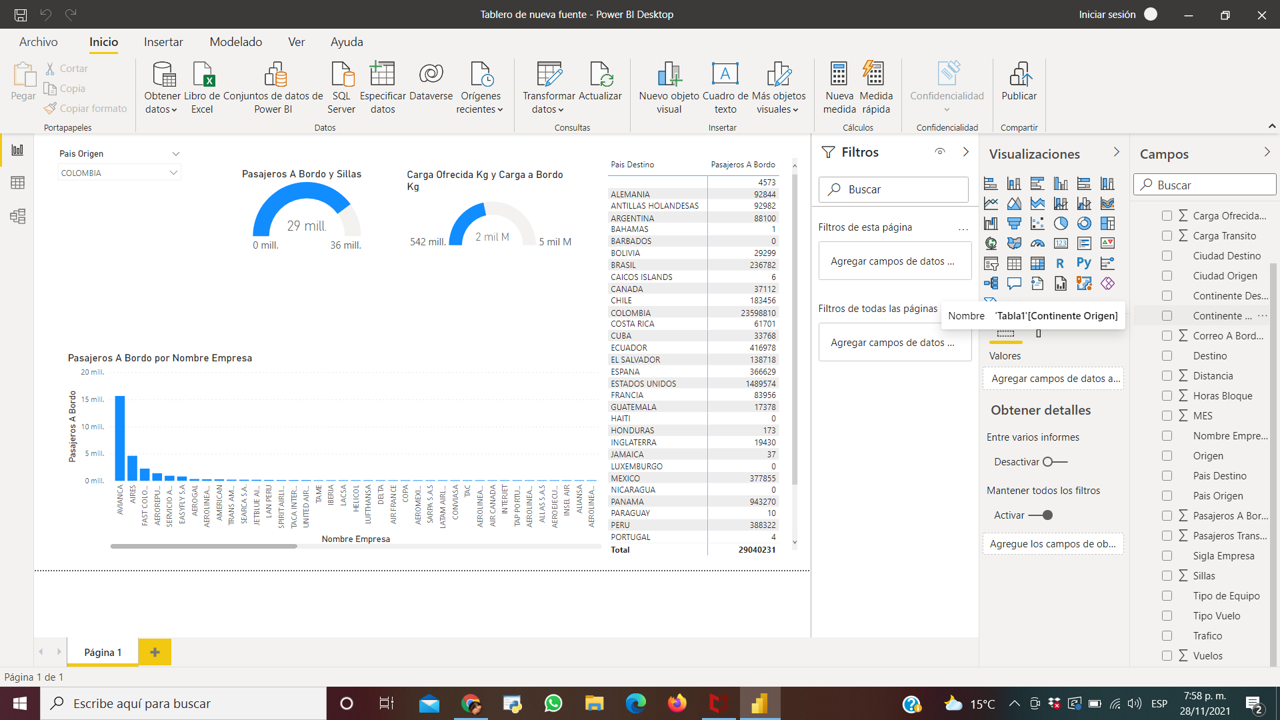

The dashboard page shown, as its layout file describes it:
{"tool":"powerbi","page":{"name":"Página 1","canvas":[1280,720],"ordinal":0},"visuals":[{"type":"slicer","fields":{"Values":["Tabla1.Pais Origen"]},"box":[28.8,20.6,223.9,70],"z":0},{"type":"columnChart","fields":{"Category":["Tabla1.Nombre Empresa"],"Y":["Sum(Tabla1.Pasajeros A Bordo)"]},"box":[50.8,359.8,890,329.6],"z":1000},{"type":"pivotTable","fields":{"Rows":["Tabla1.Pais Destino"],"Values":["Sum(Tabla1.Pasajeros A Bordo)"]},"box":[940.8,35.7,322.7,664.7],"z":2000},{"type":"gauge","fields":{"MaxValue":["Sum(Tabla1.Sillas)"],"Y":["Sum(Tabla1.Pasajeros A Bordo)"]},"box":[337.9,56.3,223.9,149.7],"z":3000},{"type":"gauge","fields":{"Y":["Sum(Tabla1.Carga Ofrecida Kg)"],"MinValue":["Sum(Tabla1.Carga a Bordo Kg)"]},"box":[609.8,57.7,285.7,148.3],"z":4000}]}

Visuals, with their boxes on the page's 1280x720 design canvas (x1, y1, x2, y2). These are canvas units, not pixel positions in the 1280x720 screenshot, which may show the page scaled, cropped or inside an application window:
slicer - Tabla1.Pais Origen: [left=29, top=21, right=253, bottom=91]
columnChart - Tabla1.Nombre Empresa x Sum(Tabla1.Pasajeros A Bordo): [left=51, top=360, right=941, bottom=689]
pivotTable - Tabla1.Pais Destino x Sum(Tabla1.Pasajeros A Bordo): [left=941, top=36, right=1264, bottom=700]
gauge - Sum(Tabla1.Sillas) x Sum(Tabla1.Pasajeros A Bordo): [left=338, top=56, right=562, bottom=206]
gauge - Sum(Tabla1.Carga Ofrecida Kg) x Sum(Tabla1.Carga a Bordo Kg): [left=610, top=58, right=896, bottom=206]
